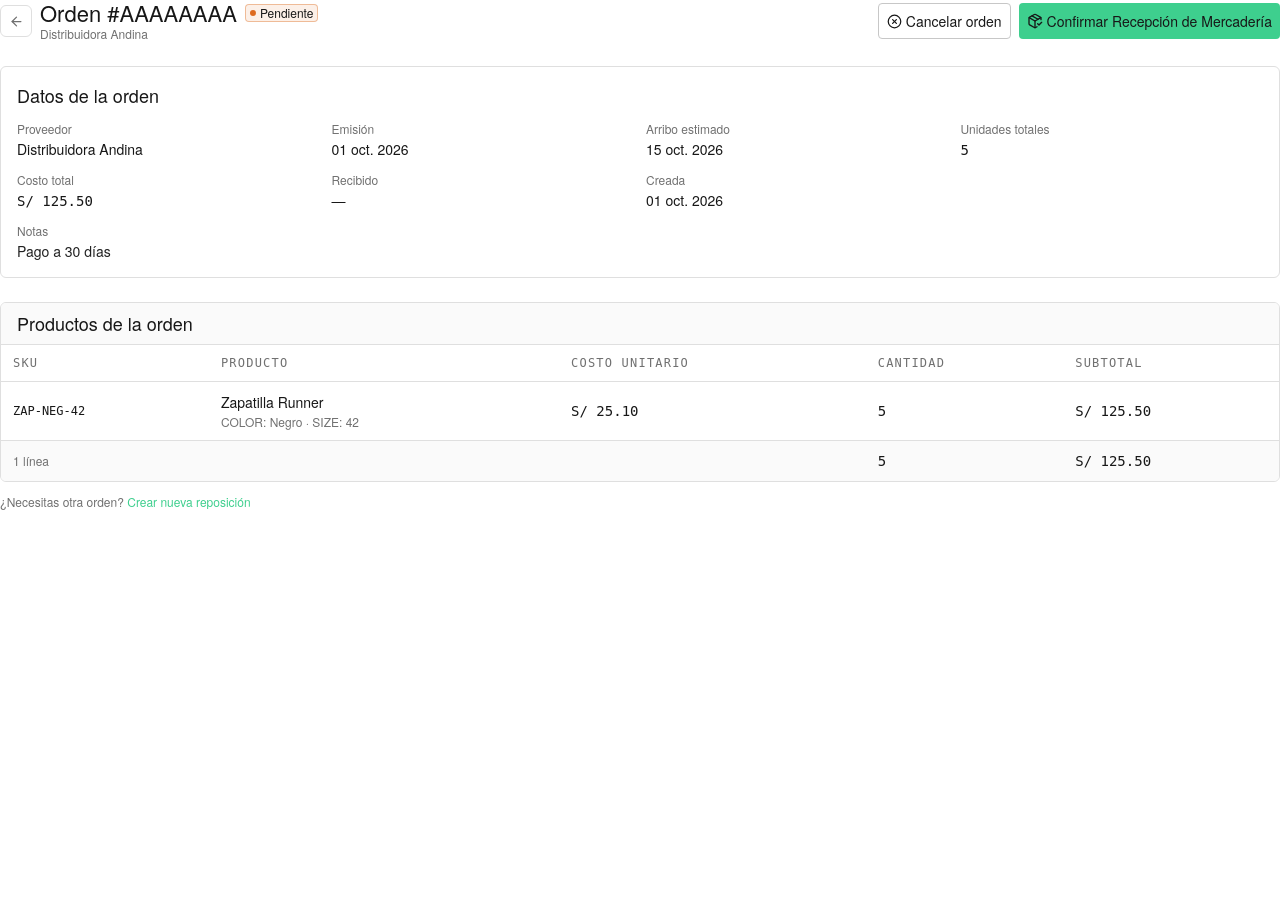
Test case: DetalleReposicionPage (HU036 CA08/CA10) › cancela la orden desde el modal con su motivo
Expected: the heading "Orden #AAAAAAAA" is shown, top-left (40, 0), bottom-right (237, 26)
Click the button "Cancelar orden": (944,21) top-left (878, 3), bottom-right (1011, 39)
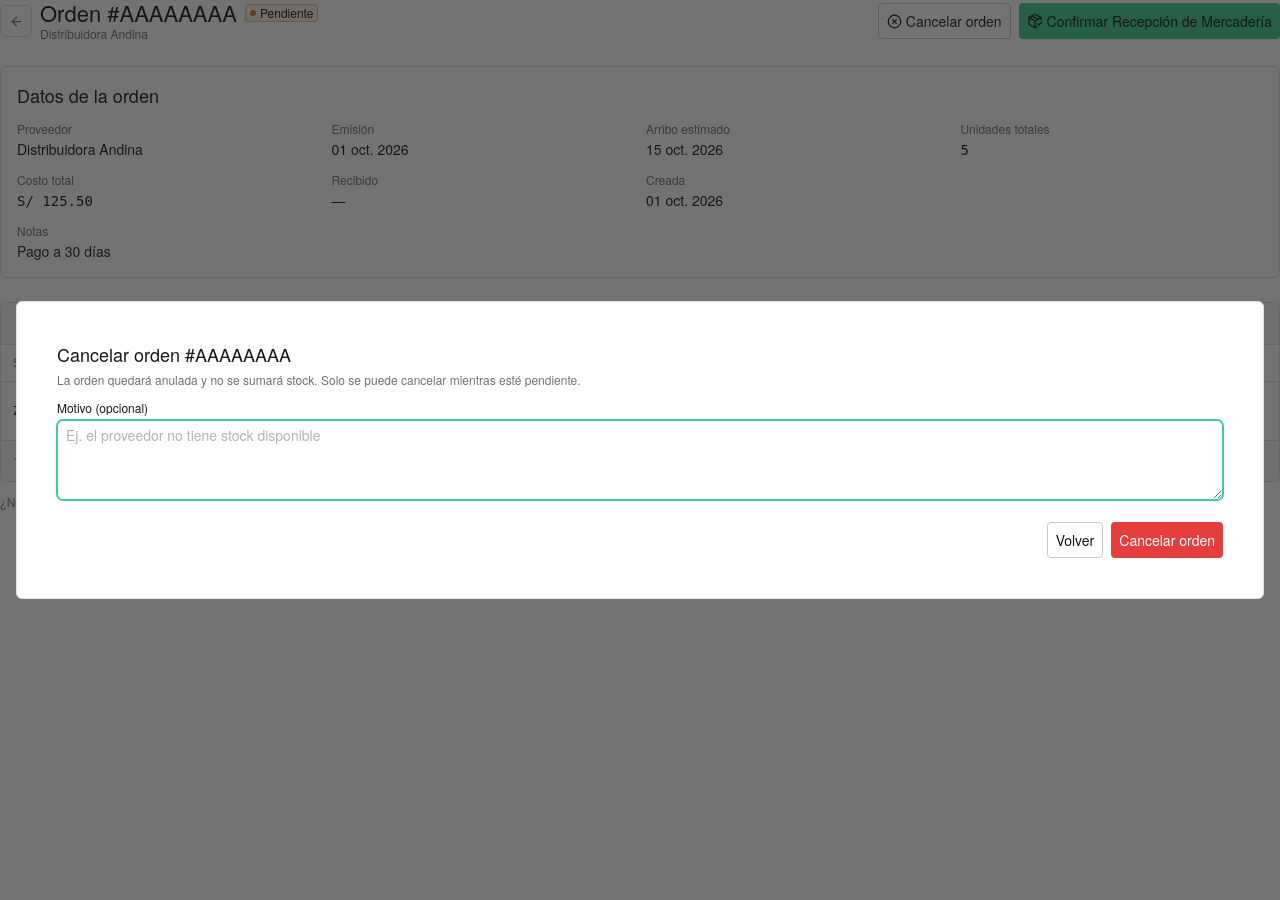
In the text box labelled "Motivo (opcional)": (640,460) top-left (57, 420), bottom-right (1223, 500), type "proveedor sin stock"
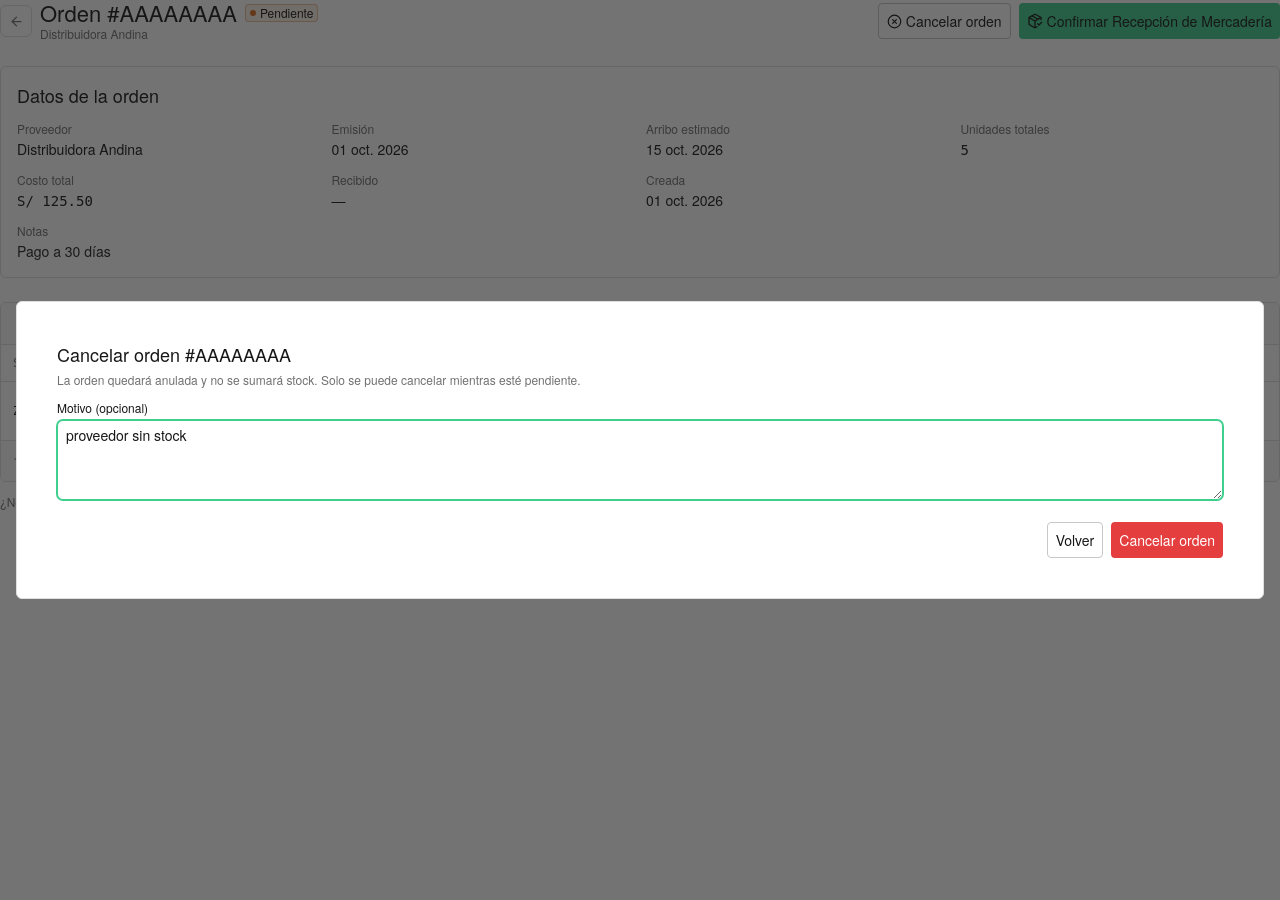
Click the button "Cancelar orden": (1167,540) top-left (1111, 522), bottom-right (1223, 558)
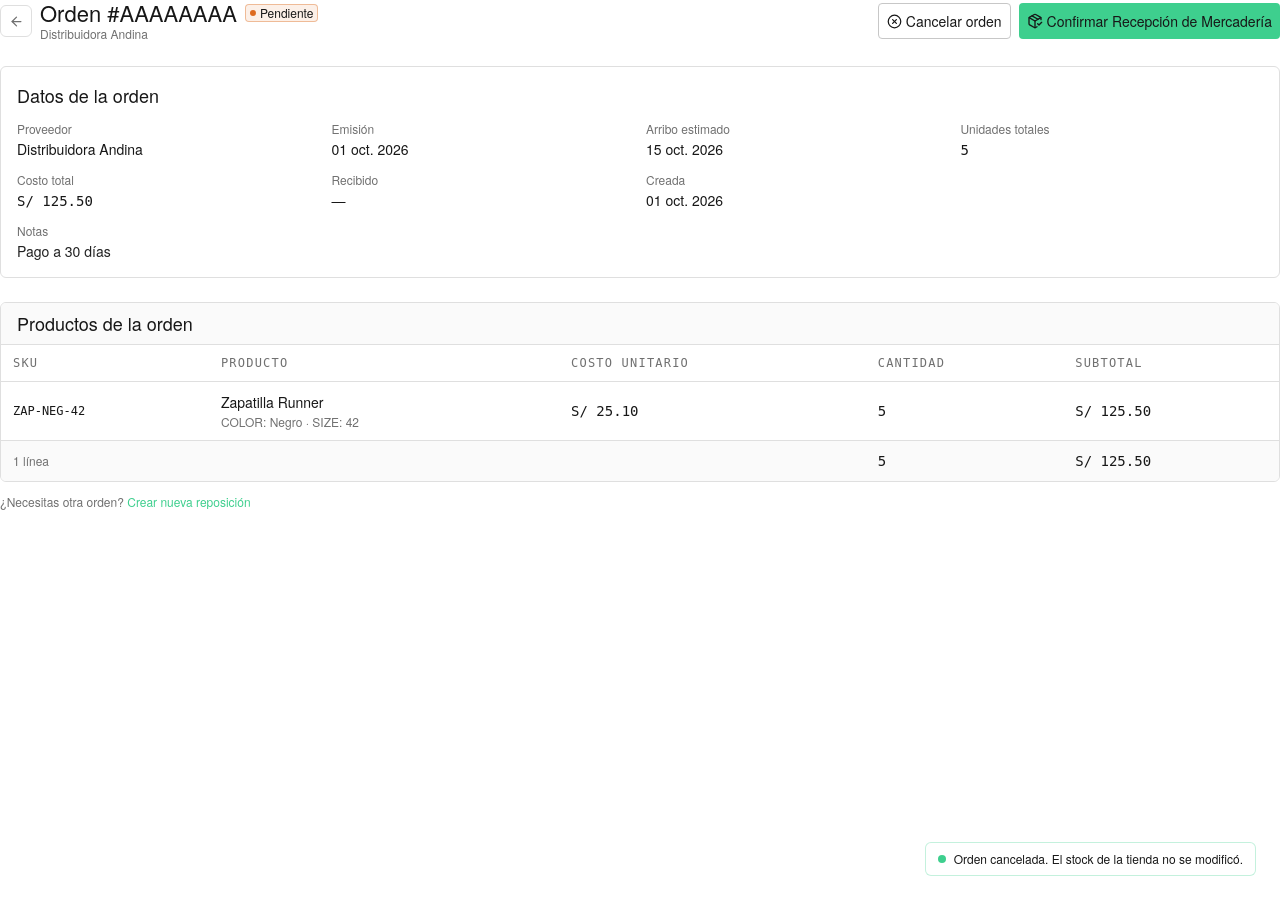
Expected: the text "Orden cancelada. El stock de la tienda no se modificó." is shown, top-left (954, 851), bottom-right (1243, 867)
